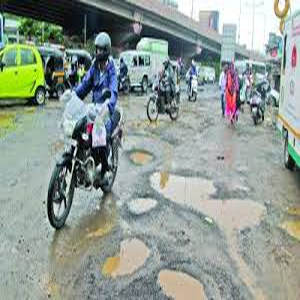pothole: (150, 170, 267, 230), (95, 235, 151, 281), (154, 266, 212, 300), (124, 196, 160, 216), (128, 147, 158, 168)
